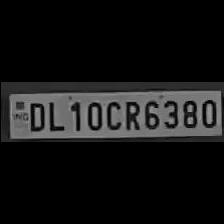0: (198, 96, 218, 128), (83, 99, 103, 130)
1: (65, 98, 83, 132)
3: (161, 96, 179, 130)
6: (140, 97, 160, 130)
8: (180, 96, 198, 130)
C: (102, 98, 120, 130)
D: (24, 99, 44, 131)
L: (44, 98, 64, 132)
R: (121, 97, 139, 131)
